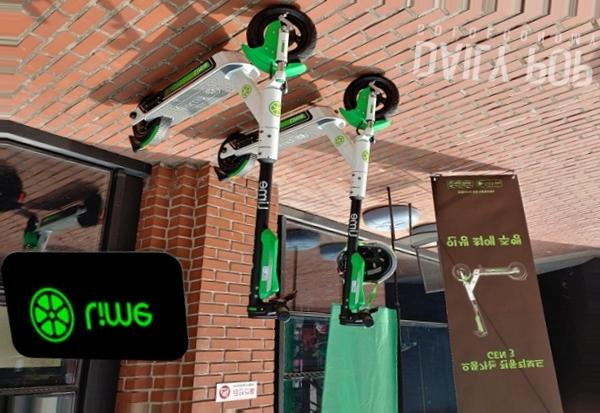scooter: (128, 1, 317, 322), (212, 73, 400, 328)
